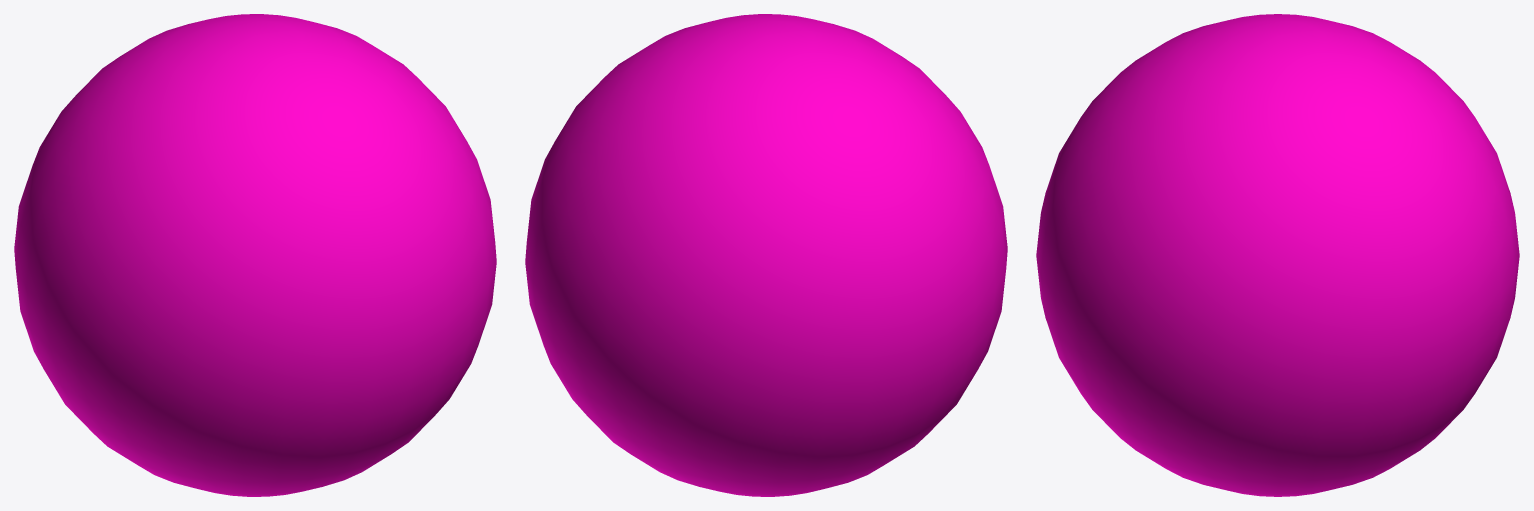
File: Planet.fbx
The picture shows the model from 3 angles, left to right: view 1: azimuth 30°, elevation 25°; view 2: azimuth 150°, elevation 25°; view 3: azimuth 270°, elevation 25°; orthographic projection.
Visible parts, largest first — view 1: Sphere; view 2: Sphere; view 3: Sphere.
Boxes of the visible parts, left/top/right/bottom form: Sphere: left=14, top=14, right=496, bottom=496; Sphere: left=525, top=14, right=1007, bottom=496; Sphere: left=1036, top=14, right=1519, bottom=496.
Size of the model in its own units: 200 by 201 by 200.
